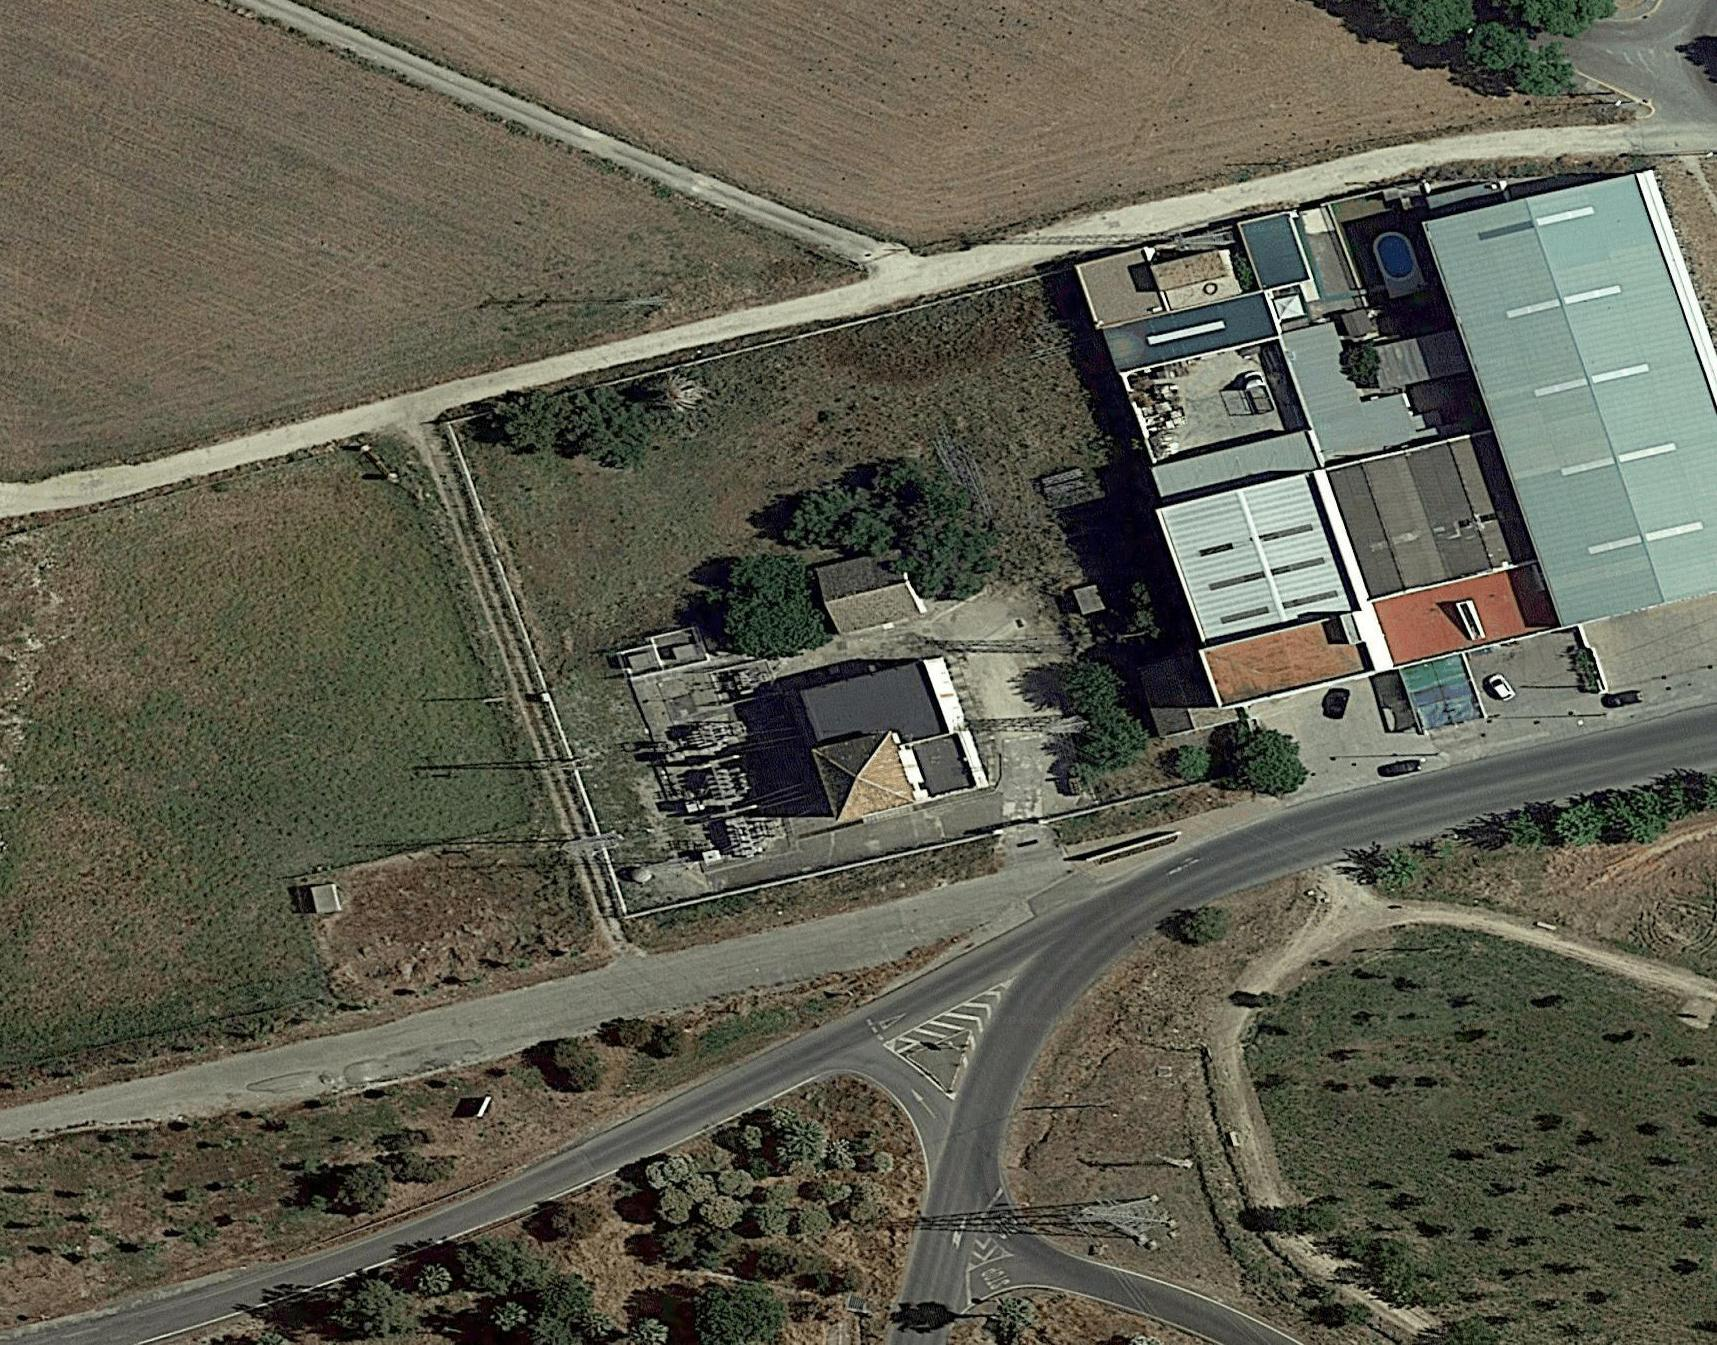substation: (620, 648, 817, 881)
